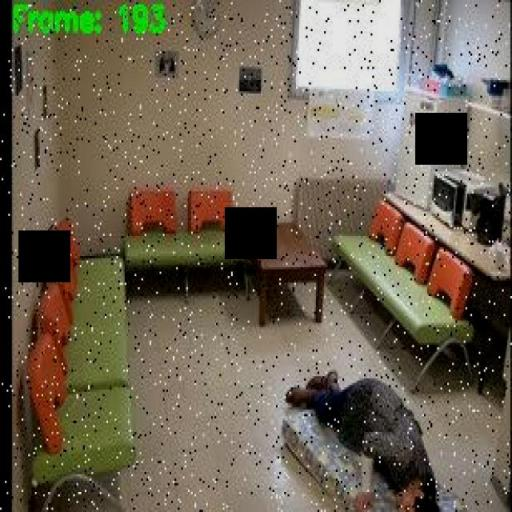Fall: (281, 366, 444, 511)
